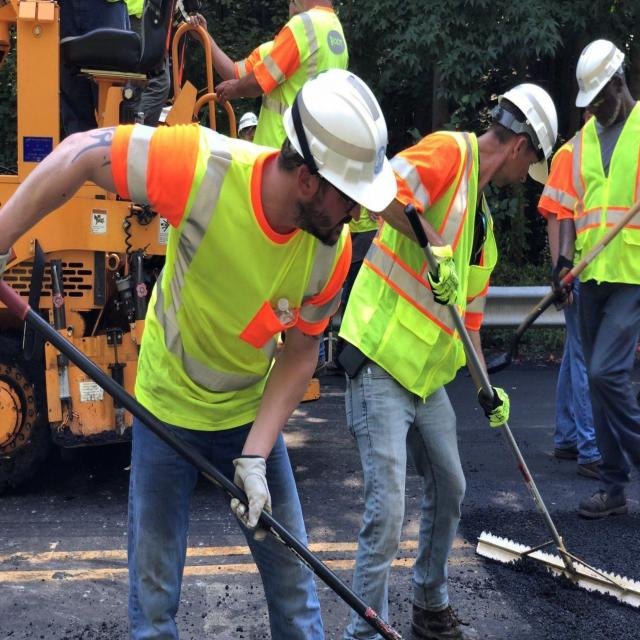Reflective-Jacket: (125, 126, 345, 420), (341, 130, 492, 393), (570, 106, 640, 291)
Safety-Helmet: (290, 67, 398, 213), (494, 74, 562, 162), (573, 33, 628, 108)
